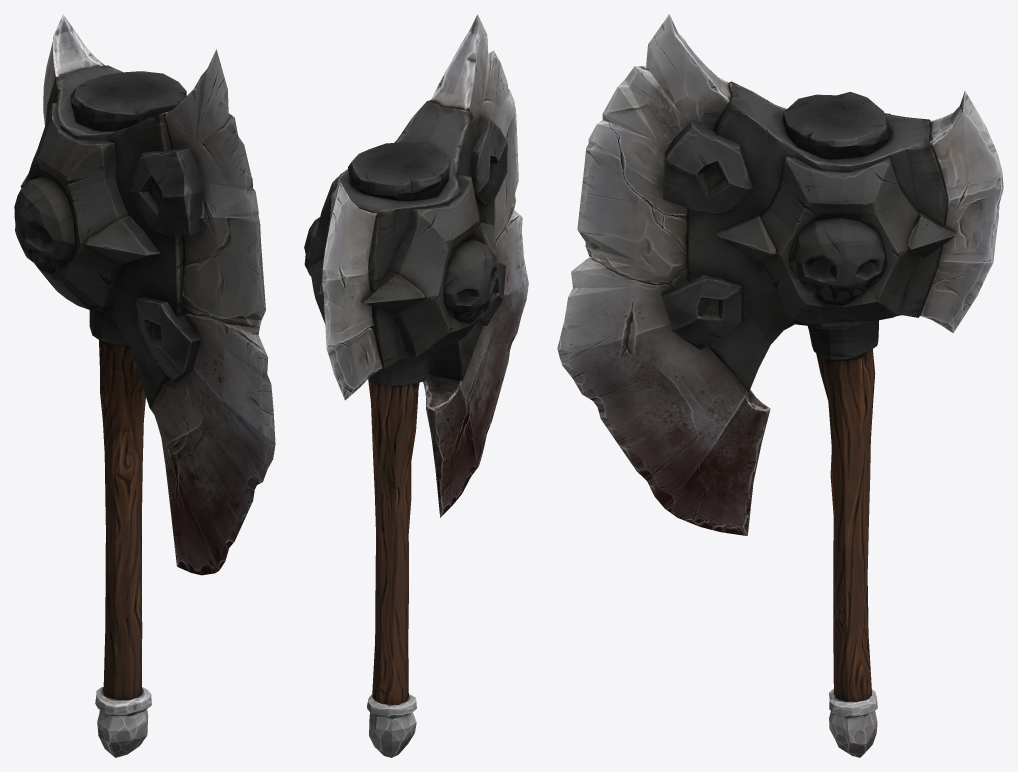
Rendered from Barbarian-Axe.fbx.
3 views of the same model, side by side, from view 1: azimuth 30°, elevation 25°; view 2: azimuth 150°, elevation 25°; view 3: azimuth 270°, elevation 25° (orthographic). The views are drawn at different scales.
Parts seen in each view (by area): view 1: Axe; view 2: Axe; view 3: Axe.
Part boxes in pixels (x1,y1,x2,y2): Axe: (14, 14, 275, 757); Axe: (304, 14, 528, 757); Axe: (557, 14, 1003, 757).
Bounding box in the file's own units: 137 × 499 × 272.
1 material, 1 textured.
